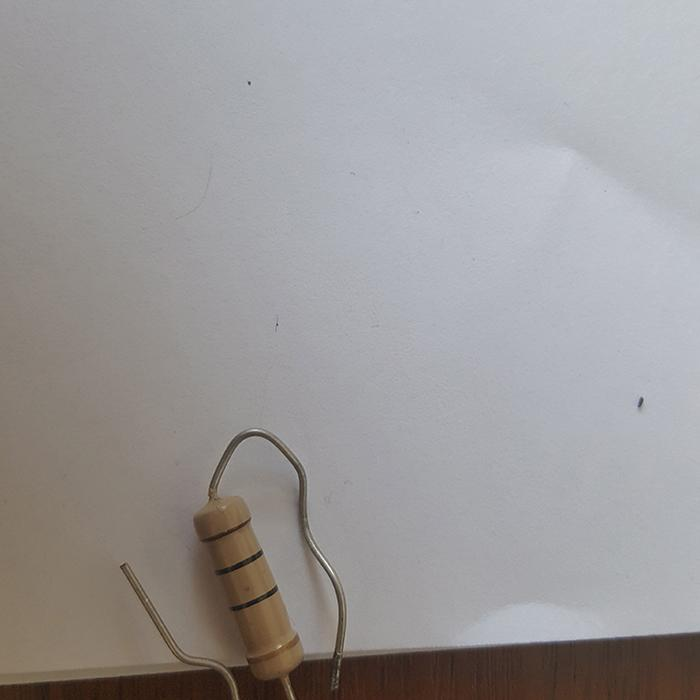resistor: (192, 492, 301, 678)
